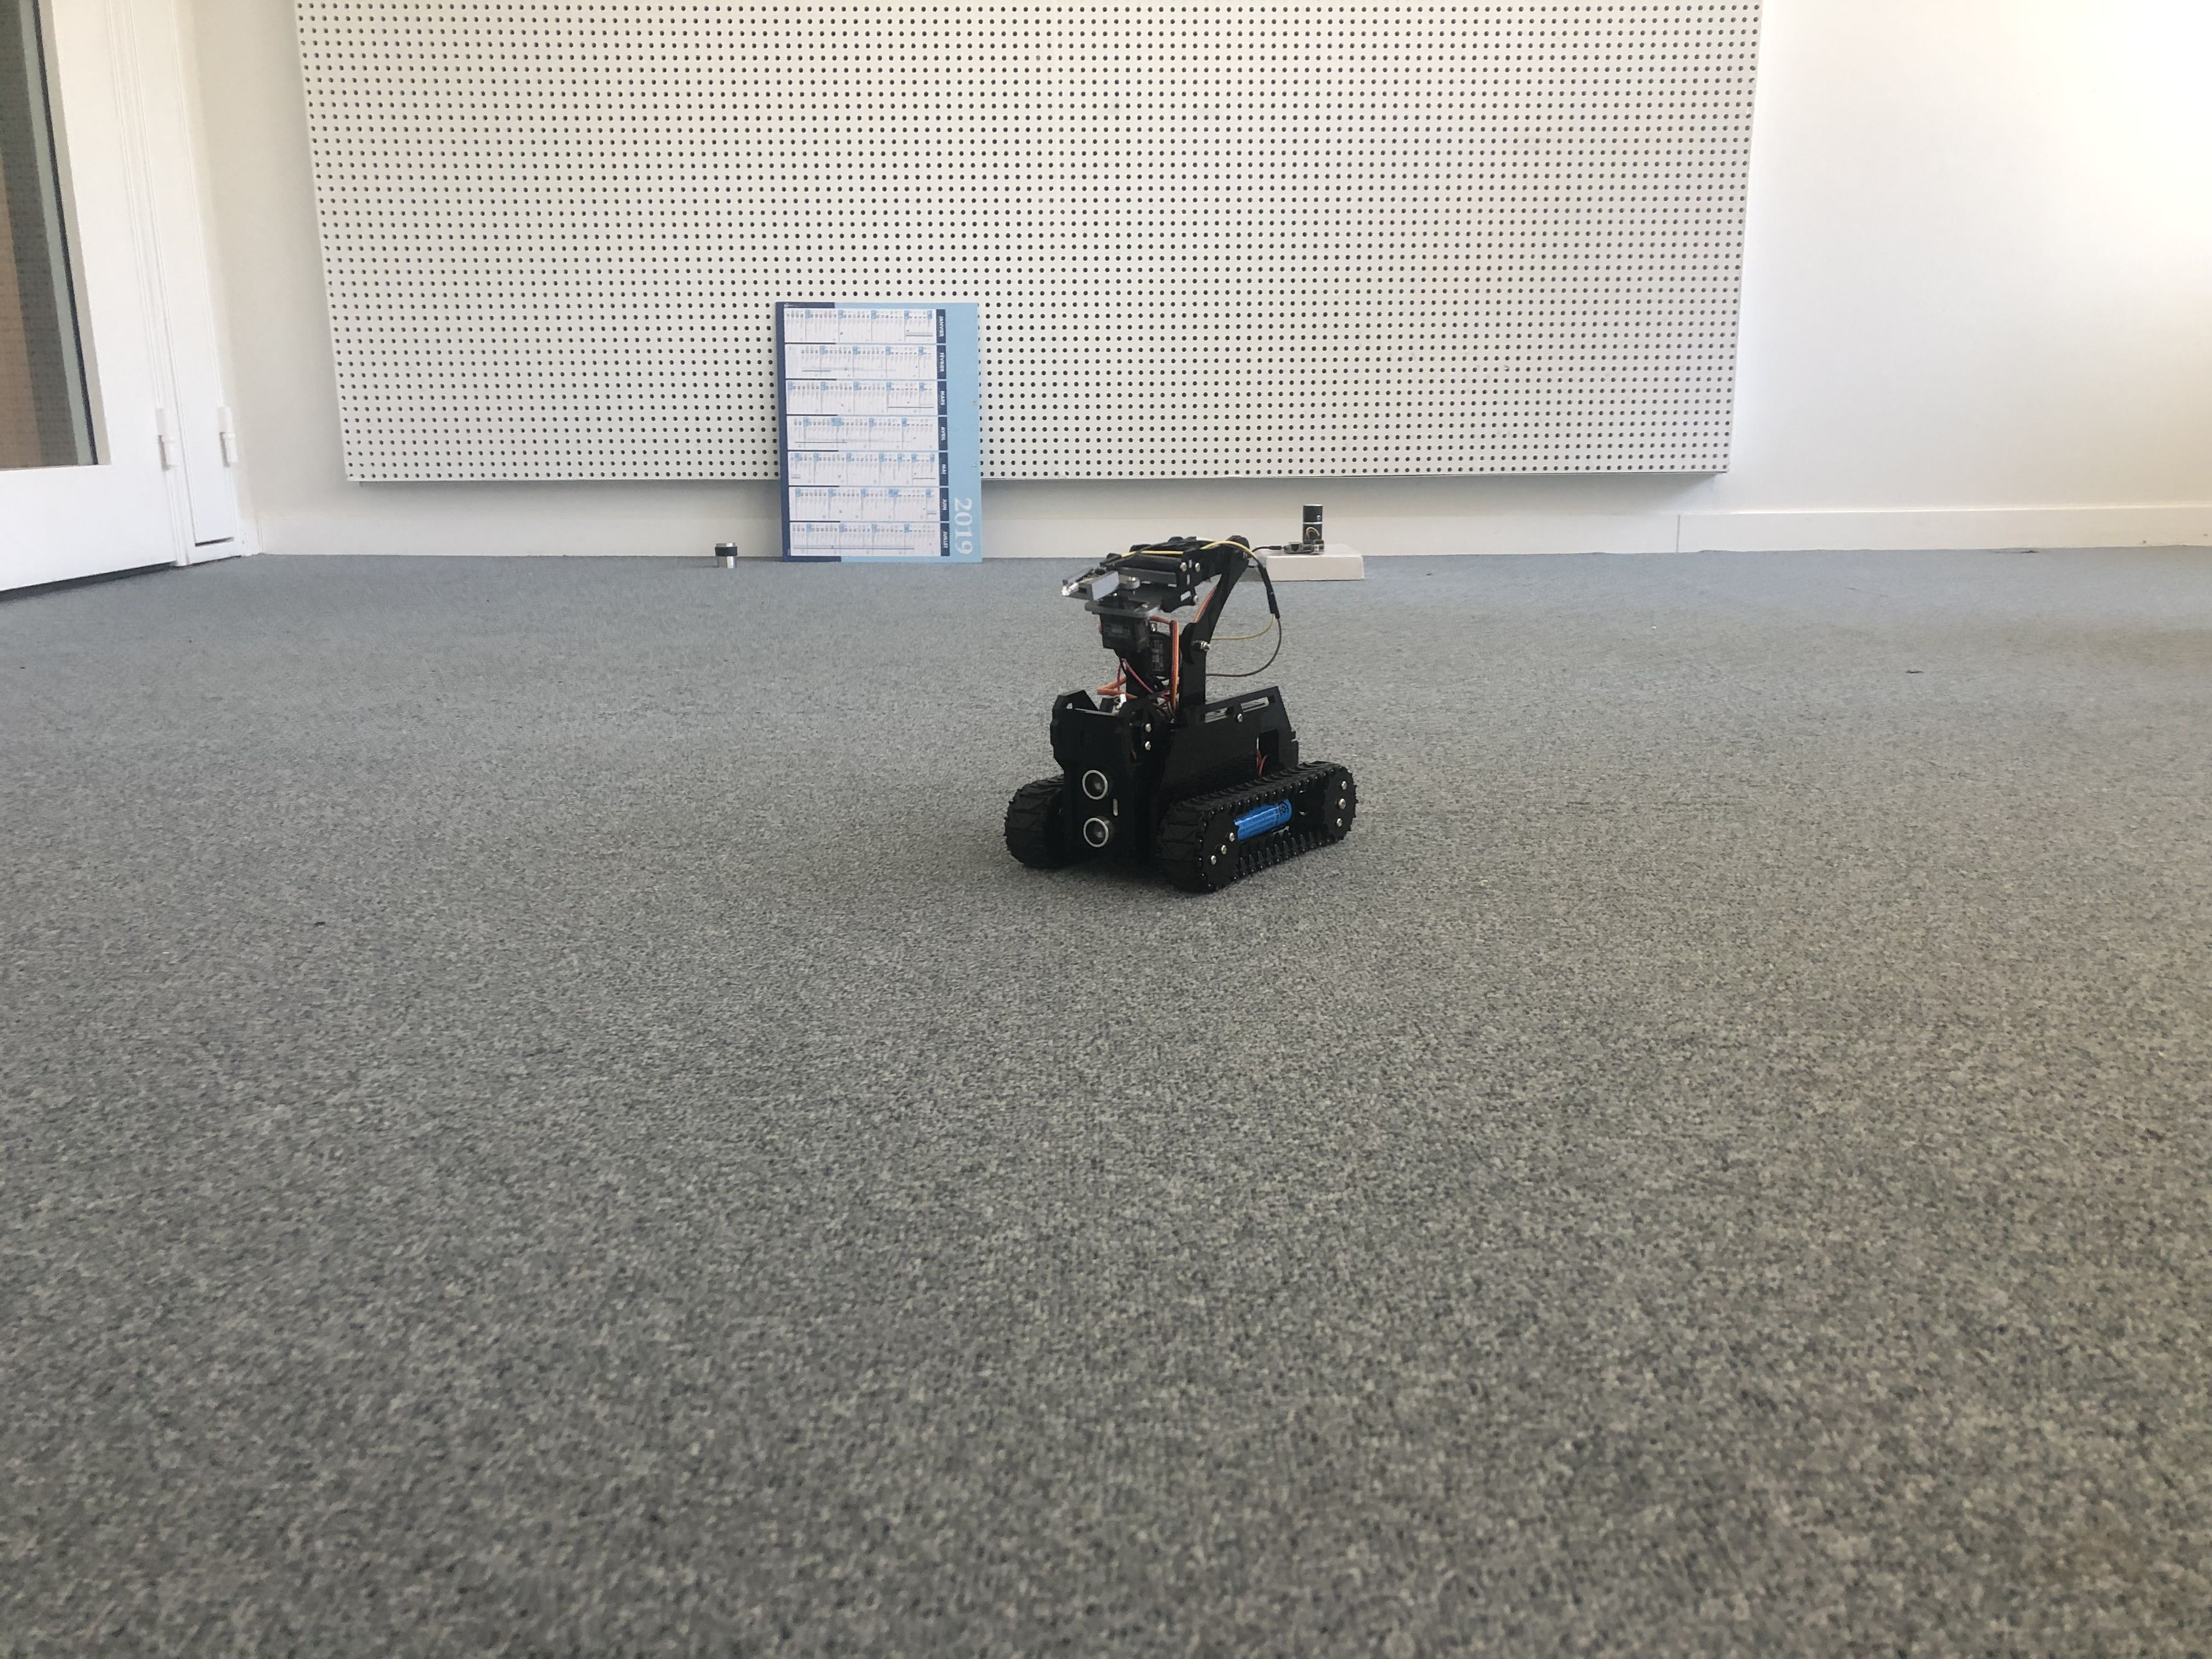rasptank: (1003, 532, 1364, 894)
